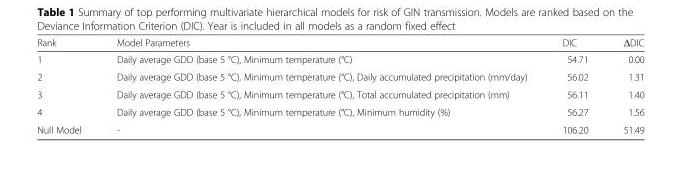table: (36, 36, 643, 135)
table column: (98, 36, 544, 135), (36, 36, 98, 135), (544, 36, 605, 135), (605, 36, 643, 135)
table column header: (36, 36, 643, 50)
table row: (36, 67, 643, 85), (36, 102, 643, 120), (36, 50, 643, 67), (36, 85, 643, 102), (36, 120, 643, 135), (36, 36, 643, 50)
